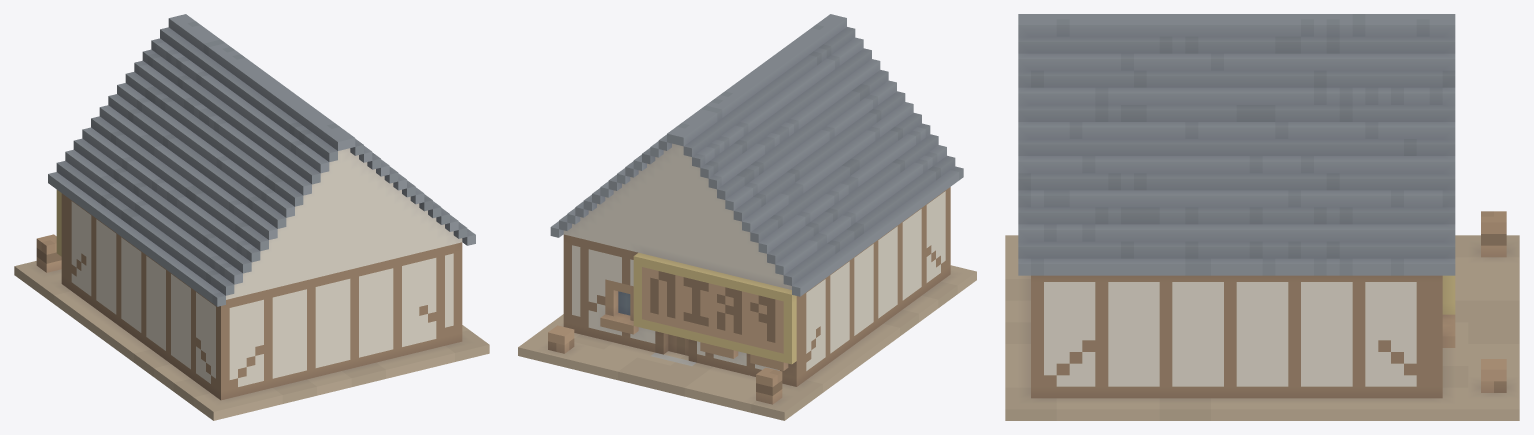
Rendered from printing_press.glb.
3 renders of one model, left to right at view 1: azimuth 30°, elevation 25°; view 2: azimuth 150°, elevation 25°; view 3: azimuth 270°, elevation 25°, orthographic. The views are drawn at different scales.
Visible parts, largest first — view 1: printing_press; view 2: printing_press; view 3: printing_press.
Part boxes in pixels (left/top/right/bottom): printing_press: left=14, top=14, right=489, bottom=420; printing_press: left=518, top=14, right=976, bottom=420; printing_press: left=1005, top=14, right=1519, bottom=420.
Size of the model in its own units: 4 by 3.38 by 5.
